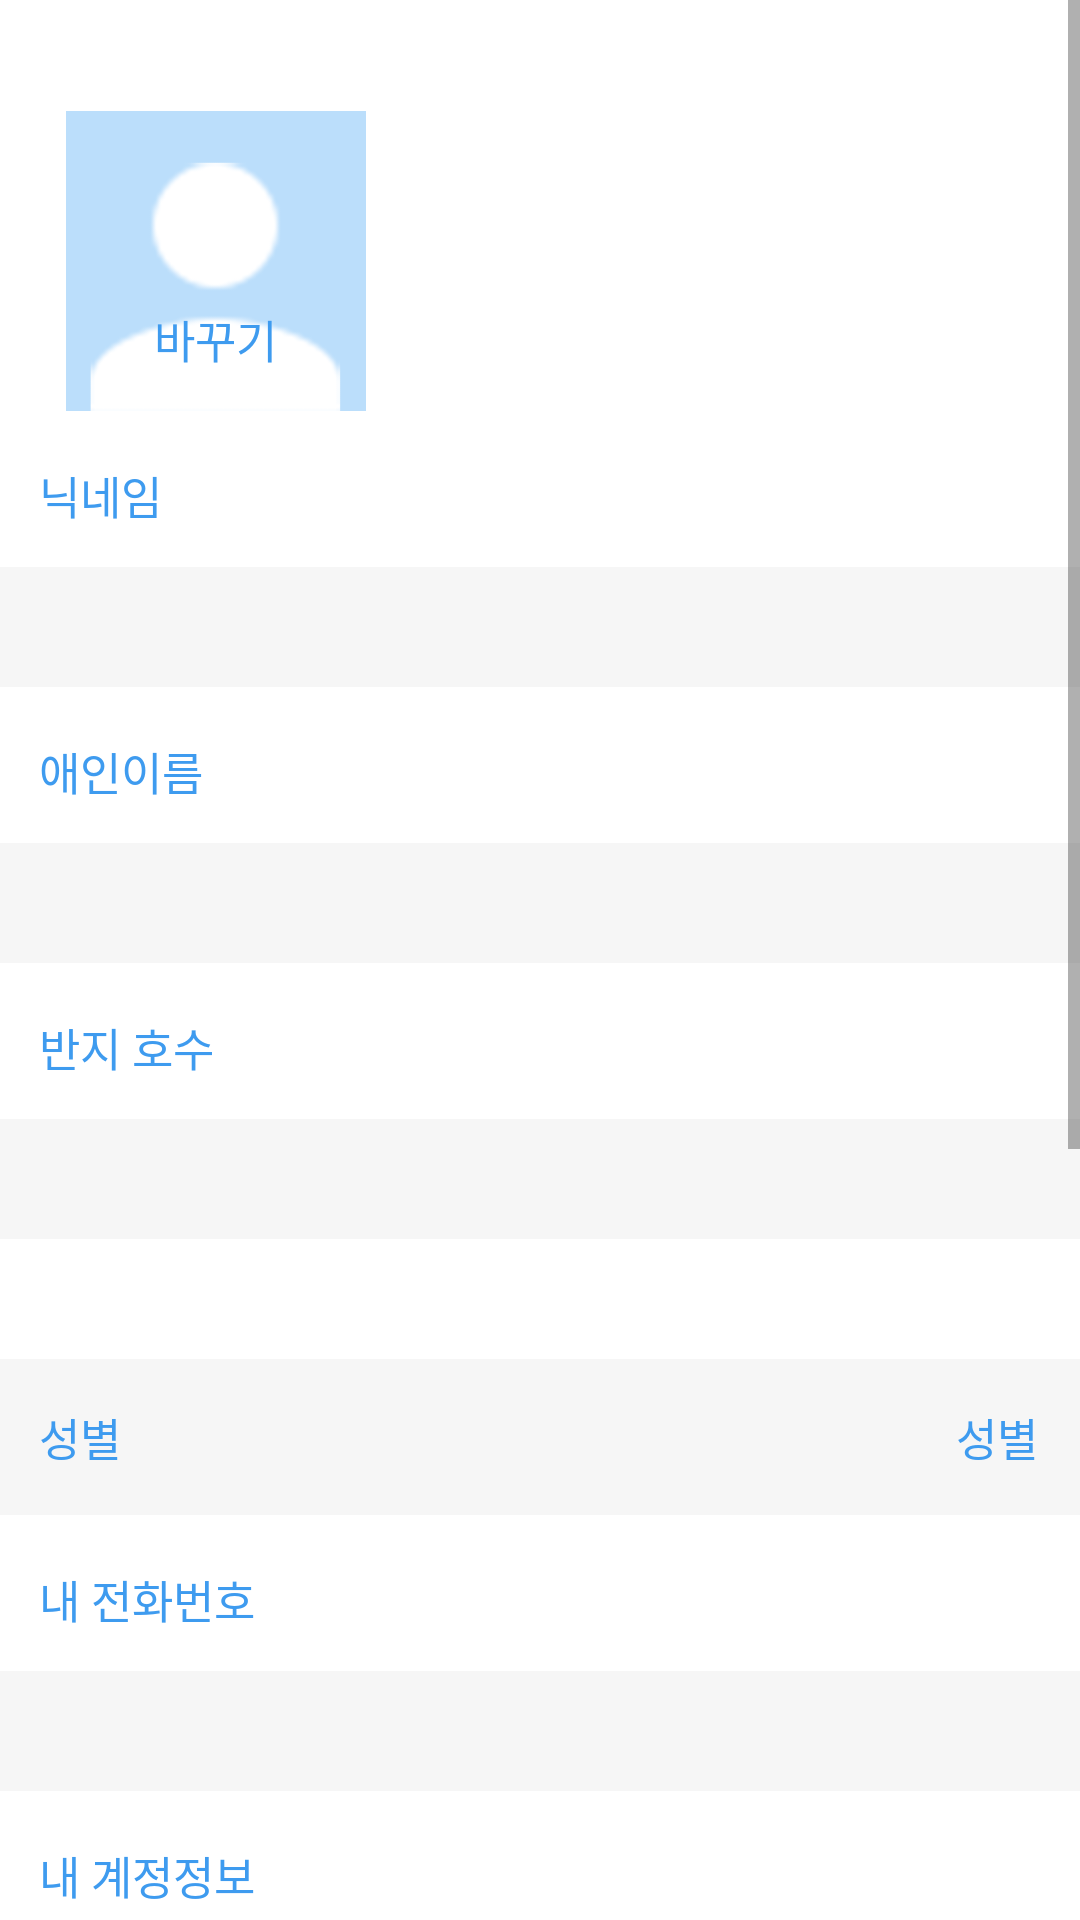

Point at icon controls on the screen. Image size 1080*1920, points as (x,y).
account: (216,261)
